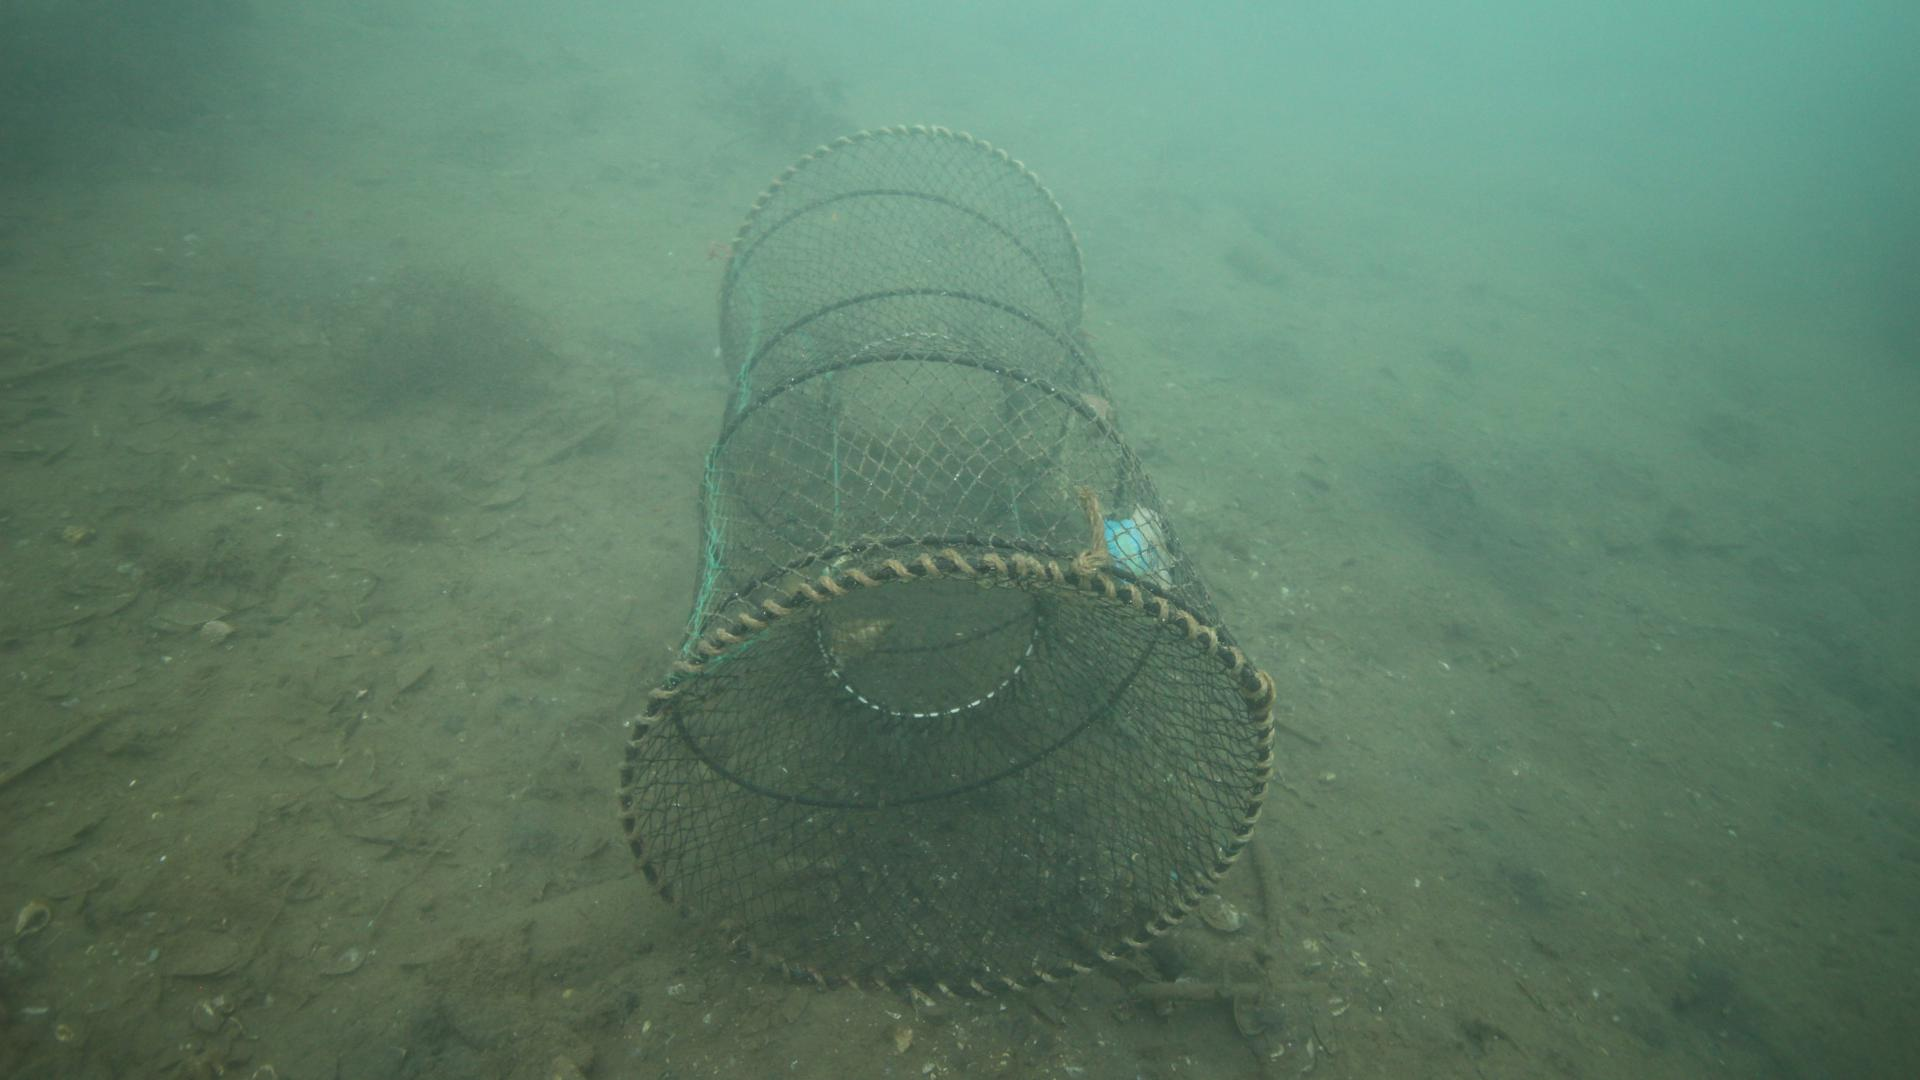spring fish trap: (612, 121, 1276, 1004)
